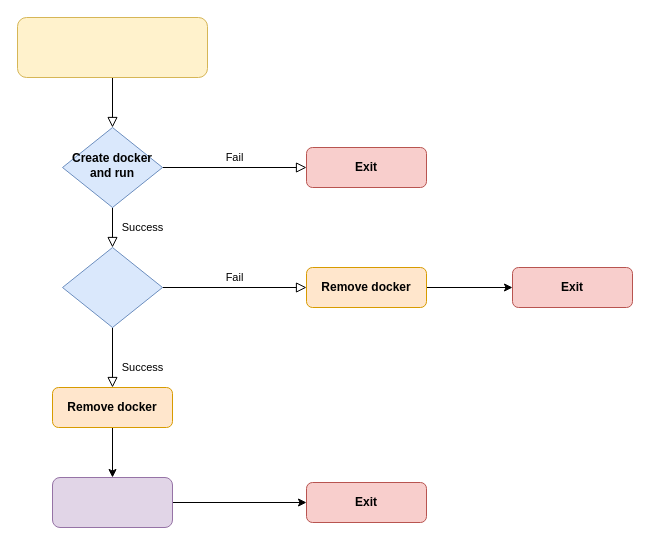
Image size: 650x545. Some labels were removed from this diagram. The box of each missing label's shape, as (x1, y1, x2, y2) in pixels:
Deploy algo: (16, 16, 208, 78)
Deploy on github and heroku: (52, 476, 172, 528)
Testing: (62, 246, 162, 328)
